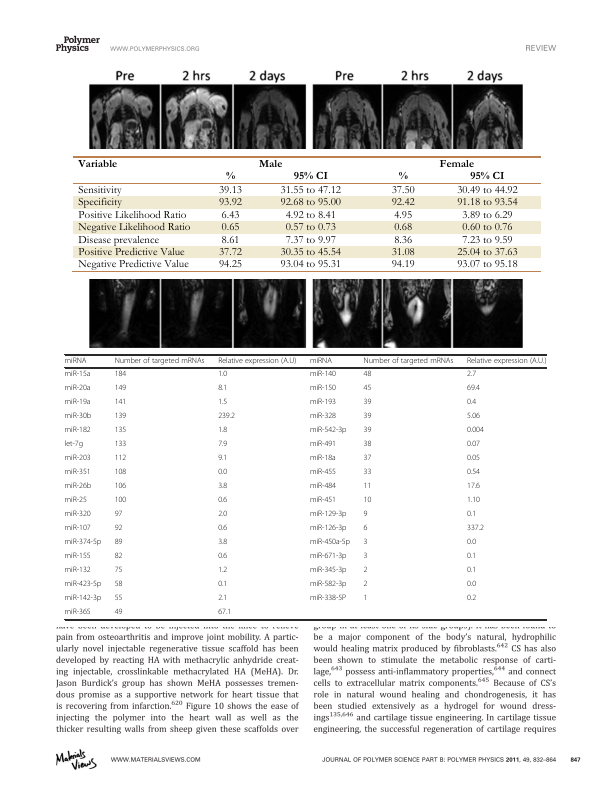borderless: (63, 353, 546, 619), (73, 154, 541, 271)
cell: (77, 222, 191, 234), (77, 259, 189, 271), (77, 209, 187, 221), (77, 247, 185, 259), (77, 234, 159, 246), (362, 357, 454, 366), (114, 357, 205, 366), (279, 185, 341, 197), (456, 185, 518, 197), (279, 197, 341, 209), (456, 197, 518, 209), (279, 247, 341, 259), (456, 247, 518, 259), (279, 259, 341, 271), (456, 259, 518, 271), (466, 357, 547, 366), (217, 357, 297, 366), (284, 209, 336, 221), (461, 209, 513, 221), (284, 222, 336, 234), (461, 222, 513, 234), (284, 234, 336, 246), (461, 234, 513, 246), (77, 185, 122, 197), (77, 197, 122, 209), (309, 538, 351, 548), (77, 158, 118, 168), (309, 426, 347, 436), (309, 510, 347, 520), (309, 524, 347, 534), (64, 538, 102, 548), (309, 552, 347, 562), (309, 566, 347, 576), (64, 580, 102, 590), (309, 580, 347, 590), (64, 594, 102, 604), (309, 594, 347, 604), (438, 158, 474, 168), (292, 171, 328, 180), (469, 171, 505, 180), (217, 185, 242, 197), (390, 185, 415, 197), (217, 197, 242, 209), (390, 197, 415, 209), (217, 247, 242, 259), (390, 247, 415, 259), (217, 259, 242, 271), (390, 259, 415, 271), (309, 370, 337, 380), (309, 384, 337, 394), (309, 398, 337, 408), (64, 412, 92, 422), (309, 412, 337, 422), (309, 440, 337, 450), (309, 454, 337, 464), (309, 468, 337, 478), (64, 482, 92, 492), (309, 482, 337, 492), (309, 496, 337, 506), (64, 370, 91, 380), (64, 384, 91, 394), (64, 398, 91, 408), (64, 426, 91, 436), (64, 454, 91, 464), (64, 468, 91, 478), (64, 510, 91, 520), (64, 524, 91, 534), (64, 552, 91, 562), (64, 566, 91, 576), (64, 608, 91, 618), (257, 158, 283, 168), (220, 209, 240, 221), (220, 222, 240, 234), (220, 234, 240, 246), (64, 496, 88, 506), (393, 209, 412, 221), (393, 222, 412, 234), (393, 234, 412, 246), (309, 357, 333, 366), (64, 357, 87, 366), (64, 440, 84, 450), (217, 412, 236, 422), (466, 426, 485, 436), (466, 524, 485, 534), (466, 384, 481, 394), (466, 412, 481, 422), (466, 440, 481, 450), (466, 454, 481, 464), (466, 468, 481, 478), (466, 482, 481, 492), (466, 496, 481, 506), (217, 608, 232, 618), (114, 370, 127, 380), (114, 384, 127, 394), (114, 398, 127, 408), (114, 412, 127, 422), (114, 426, 127, 436), (114, 440, 127, 450), (114, 454, 127, 464), (114, 468, 127, 478), (114, 482, 127, 492), (114, 496, 127, 506), (217, 370, 228, 380), (466, 370, 477, 380), (217, 384, 228, 394), (217, 398, 228, 408), (466, 398, 477, 408), (217, 426, 228, 436), (217, 440, 228, 450), (217, 454, 228, 464), (217, 468, 228, 478), (217, 482, 228, 492), (217, 496, 228, 506), (217, 510, 228, 520), (466, 510, 477, 520), (217, 524, 228, 534), (217, 538, 228, 548), (466, 538, 477, 548), (217, 552, 228, 562), (466, 552, 477, 562), (217, 566, 228, 576), (466, 566, 477, 576), (217, 580, 228, 590), (466, 580, 477, 590), (217, 594, 228, 604), (466, 594, 477, 604), (362, 370, 372, 380), (362, 384, 372, 394), (362, 398, 372, 408), (362, 412, 372, 422), (362, 426, 372, 436), (362, 440, 372, 450), (362, 454, 372, 464), (362, 468, 372, 478), (362, 482, 372, 492), (362, 496, 372, 506), (224, 171, 235, 180), (397, 171, 408, 180), (114, 510, 123, 520), (114, 524, 123, 534), (114, 538, 123, 548), (114, 552, 123, 562), (114, 566, 123, 576), (114, 580, 123, 590), (114, 594, 123, 604), (114, 608, 123, 618), (362, 510, 368, 520), (362, 524, 368, 534), (362, 538, 368, 548), (362, 552, 368, 562), (362, 566, 368, 576), (362, 580, 368, 590), (362, 594, 368, 604)
